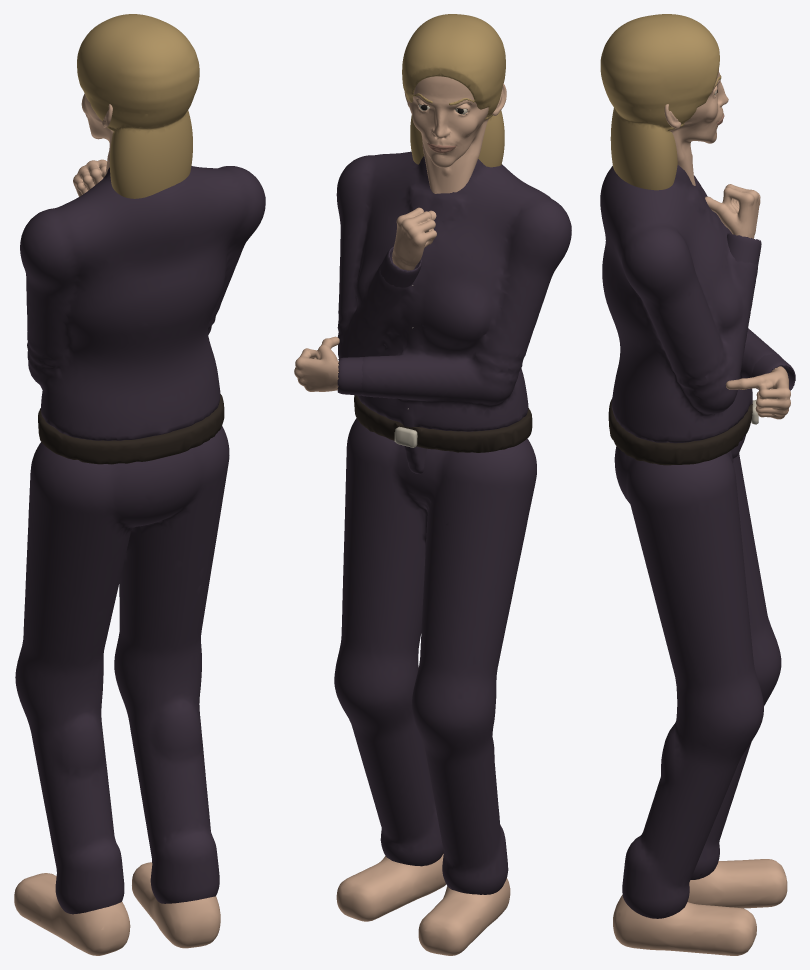
The model's file is woman_shoes.glb.
3 renders of one model, left to right at view 1: azimuth 30°, elevation 25°; view 2: azimuth 150°, elevation 25°; view 3: azimuth 270°, elevation 25°, orthographic. The views are drawn at different scales.
Parts seen in each view (by area): view 1: woman_shoes_body, woman_shoes_head, woman_shoes_hands; view 2: woman_shoes_body, woman_shoes_head, woman_shoes_hands; view 3: woman_shoes_body, woman_shoes_head, woman_shoes_hands.
Boxes of the visible parts, <box> form: woman_shoes_body: <box>14,166,265,955</box>; woman_shoes_head: <box>77,14,199,198</box>; woman_shoes_hands: <box>73,159,106,196</box>; woman_shoes_body: <box>334,151,571,955</box>; woman_shoes_head: <box>402,14,506,193</box>; woman_shoes_hands: <box>294,207,436,395</box>; woman_shoes_body: <box>600,165,787,955</box>; woman_shoes_head: <box>600,14,728,190</box>; woman_shoes_hands: <box>705,184,795,419</box>.
Size of the model in its own units: 0.4411 by 1.65 by 0.3234.
